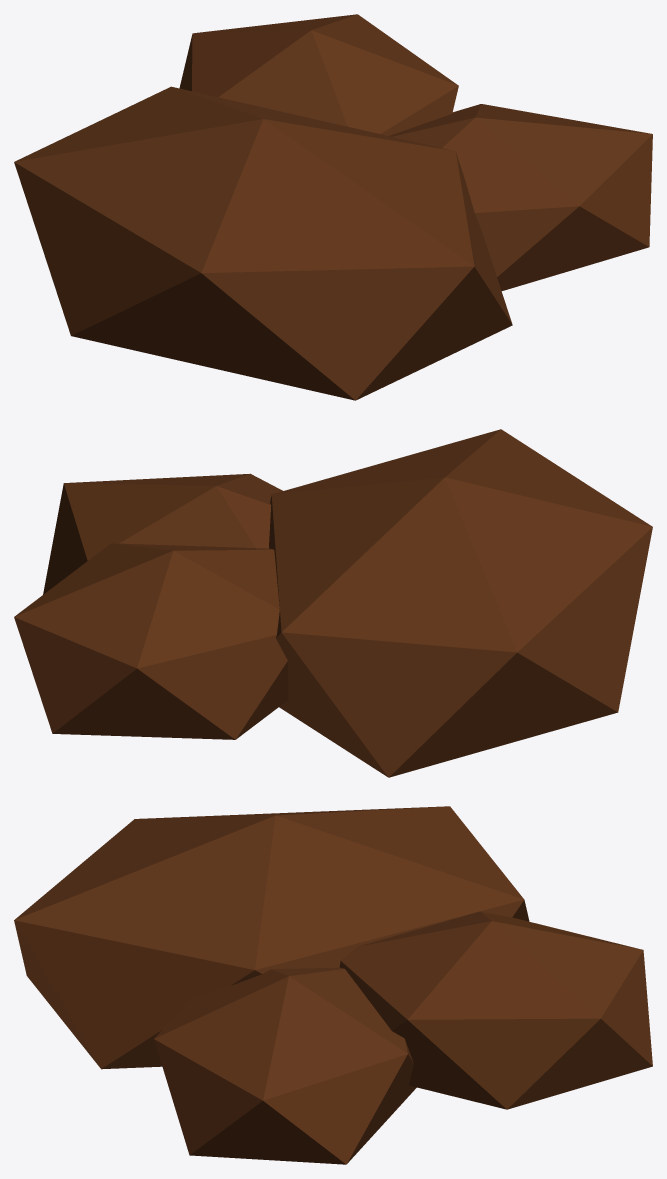
Rendered from mud_3.fbx.
The picture shows the model from 3 angles, top to bottom: view 1: azimuth 30°, elevation 25°; view 2: azimuth 150°, elevation 25°; view 3: azimuth 270°, elevation 25°; orthographic projection. The views are drawn at different scales.
Visible parts, largest first — view 1: mud_3; view 2: mud_3; view 3: mud_3.
Part boxes in pixels (x1,y1,x2,y2): mud_3: (14, 14, 652, 400); mud_3: (14, 429, 652, 777); mud_3: (14, 806, 652, 1164).
Size of the model in its own units: 133 by 55.91 by 132.
